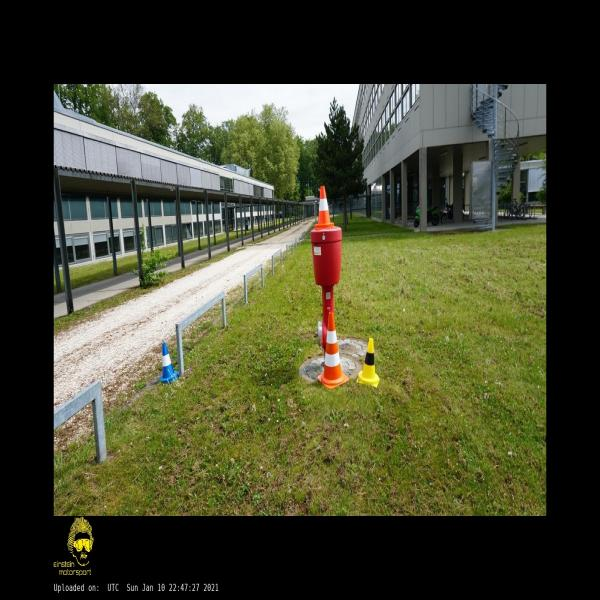blue_cone: (160, 343, 179, 383)
large_orange_cone: (318, 312, 349, 389)
orange_cone: (314, 186, 334, 230)
yellow_cone: (356, 338, 379, 387)
